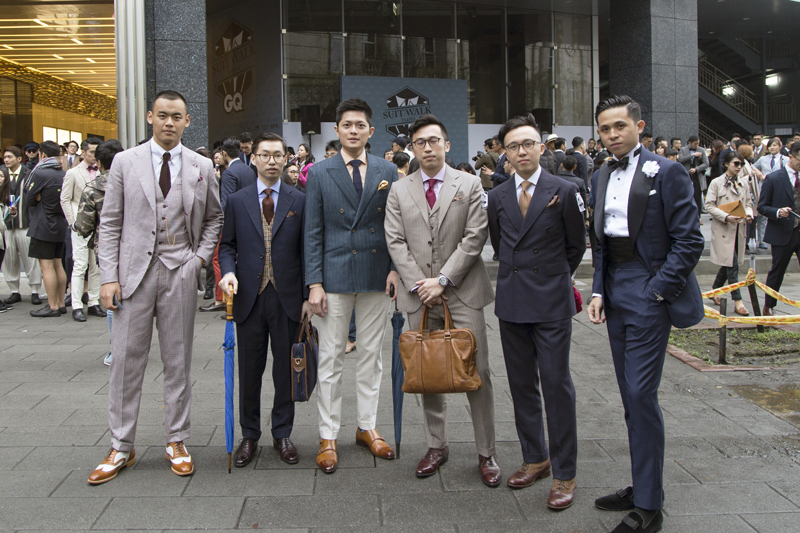feet: (91, 412, 198, 485), (407, 420, 508, 489), (501, 434, 579, 511), (589, 460, 666, 533), (309, 414, 399, 474), (227, 416, 307, 477), (709, 275, 751, 319), (27, 279, 71, 319), (1, 275, 45, 308), (197, 287, 239, 315), (68, 295, 105, 321)
